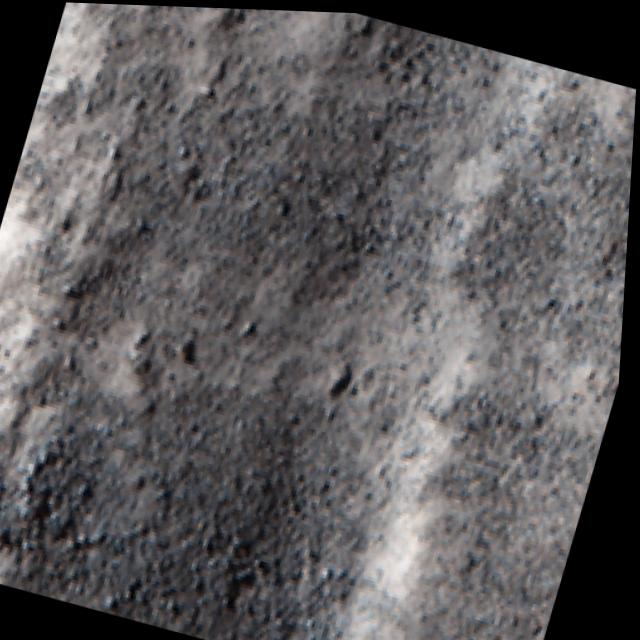Crater: (0, 0, 218, 598)
